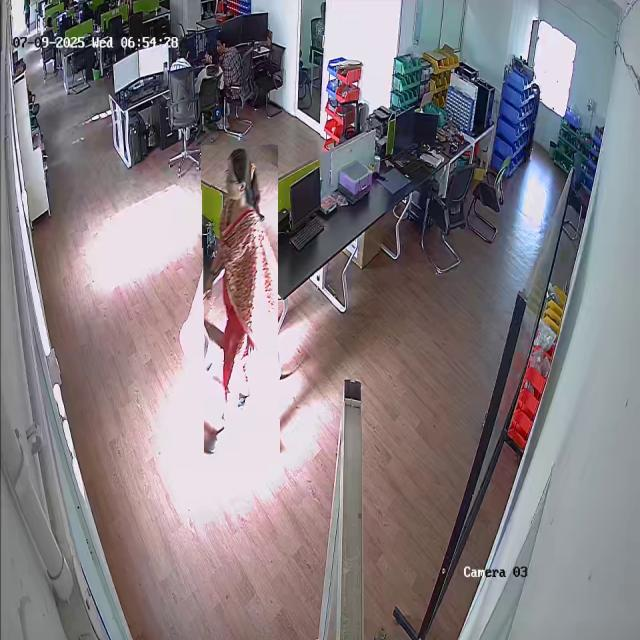person: (203, 145, 279, 464), (214, 34, 245, 97)
